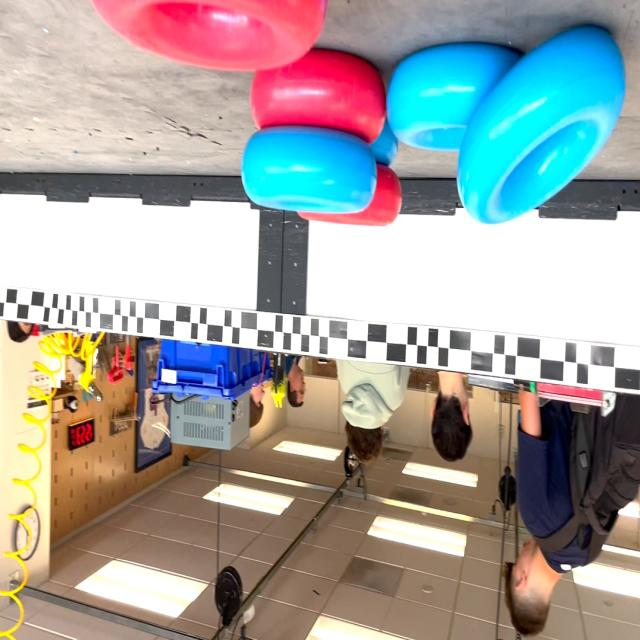Blue-Ring: (458, 27, 625, 222), (386, 42, 520, 149), (241, 127, 376, 213)
Red-Ring: (92, 1, 326, 71), (250, 49, 386, 142), (299, 164, 402, 227)
